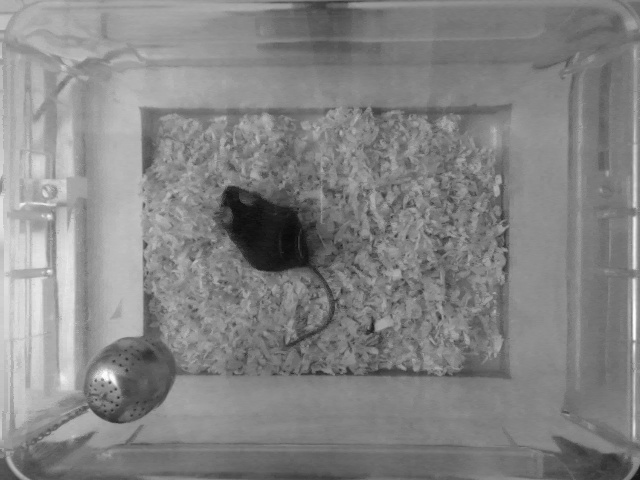mice: (214, 183, 337, 348)
